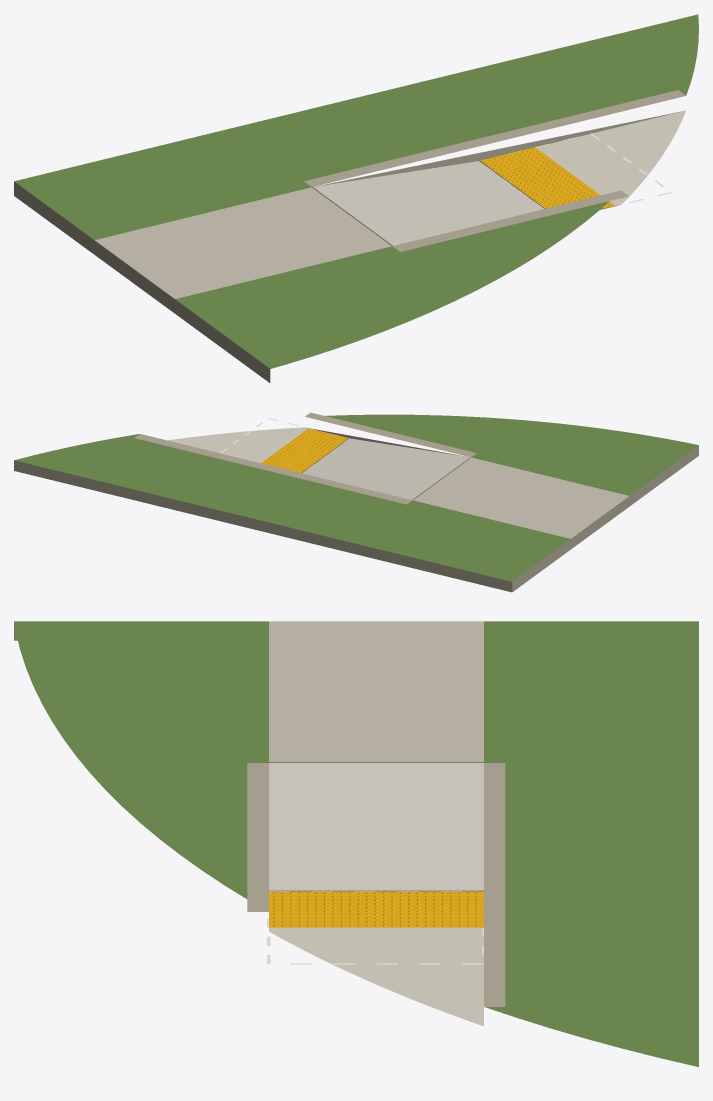
File: ramp-422d-side-curbs.glb
3 renders of one model, top to bottom at view 1: azimuth 30°, elevation 25°; view 2: azimuth 150°, elevation 25°; view 3: azimuth 270°, elevation 25°, orthographic. The views are drawn at different scales.
Visible parts, largest first — view 1: Seattle Type 422D: Directional ramp with side curbs; view 2: Seattle Type 422D: Directional ramp with side curbs; view 3: Seattle Type 422D: Directional ramp with side curbs.
Part boxes in pixels (x1,y1,x2,y2): Seattle Type 422D: Directional ramp with side curbs: (14,14,698,382); Seattle Type 422D: Directional ramp with side curbs: (14,412,698,592); Seattle Type 422D: Directional ramp with side curbs: (14,621,698,1066).
Bounding box in the file's own units: 7.48 × 0.1554 × 4.85.
